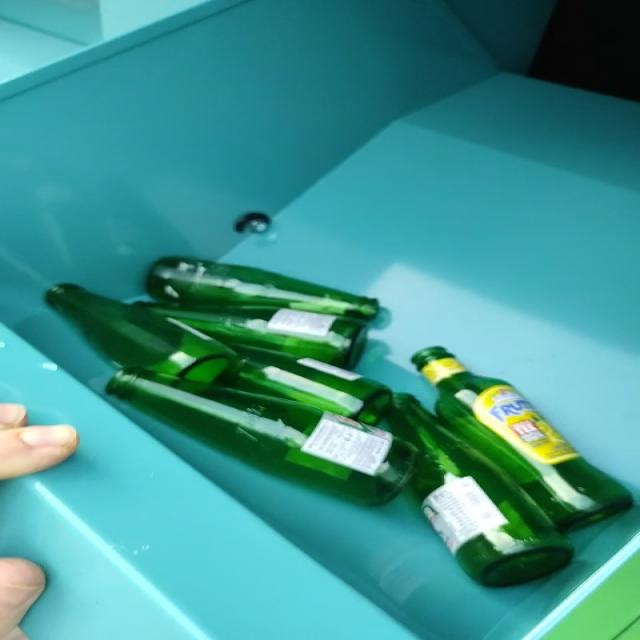glass: (47, 258, 633, 587)
